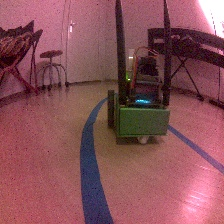rob: (106, 55, 170, 143)
